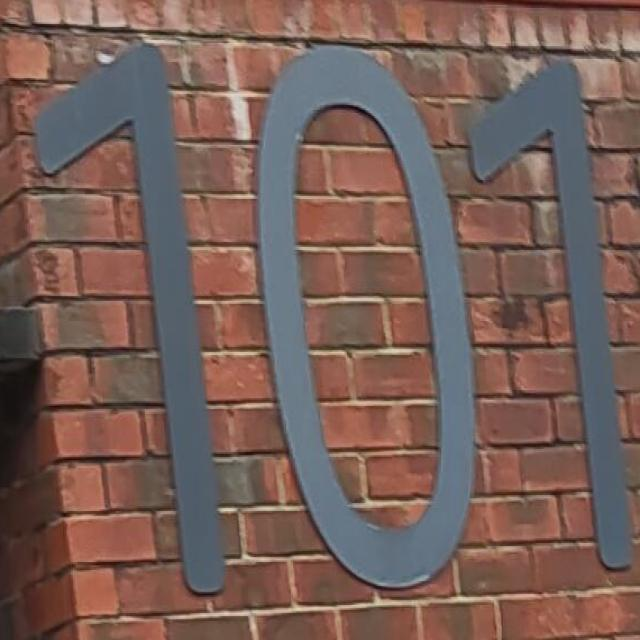character: (251, 38, 481, 605), (30, 40, 233, 600), (465, 53, 637, 592)
